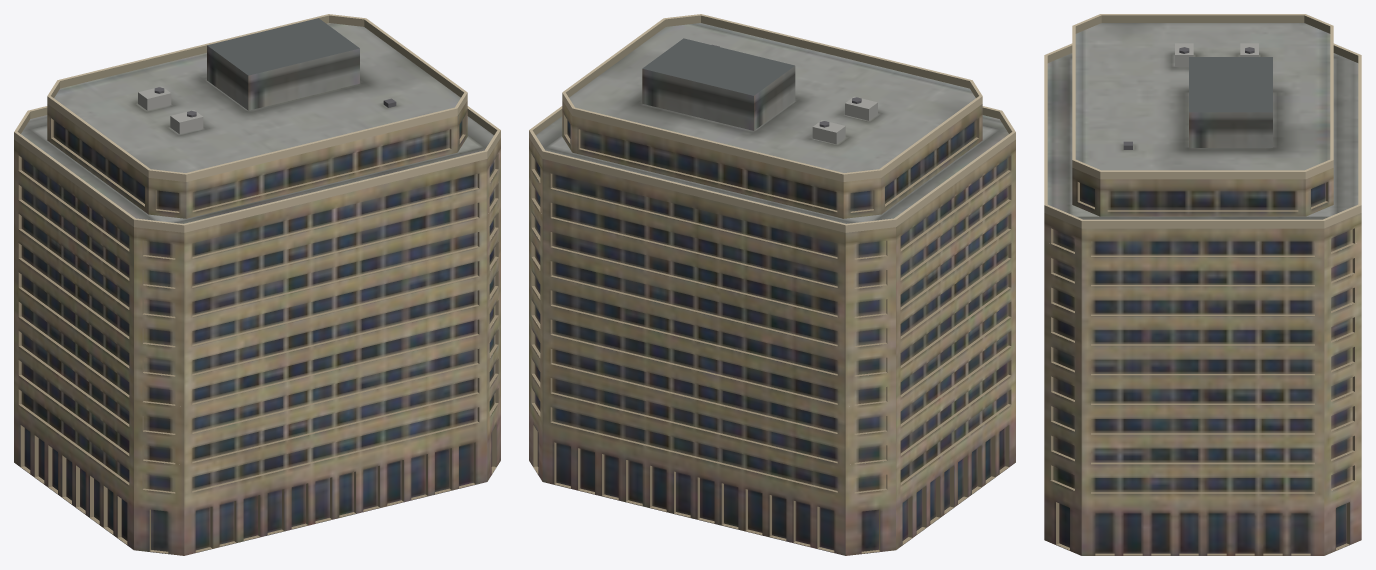
Rendered from dc_office_band_a.glb.
The picture shows the model from 3 angles, left to right: view 1: azimuth 30°, elevation 25°; view 2: azimuth 150°, elevation 25°; view 3: azimuth 270°, elevation 25°; orthographic projection.
Parts seen in each view (by area): view 1: dc_office_band_a; view 2: dc_office_band_a; view 3: dc_office_band_a.
Boxes of the visible parts, x1,y1,x2,y2 form: dc_office_band_a: [14, 14, 500, 555]; dc_office_band_a: [529, 14, 1015, 555]; dc_office_band_a: [1044, 14, 1361, 555].
Size of the model in its own units: 46 by 47.3 by 34.
Materials: 1 (1 with a texture image).
